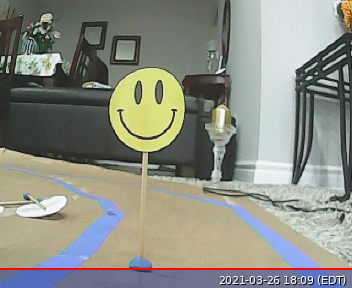Person: (108, 66, 185, 153)
